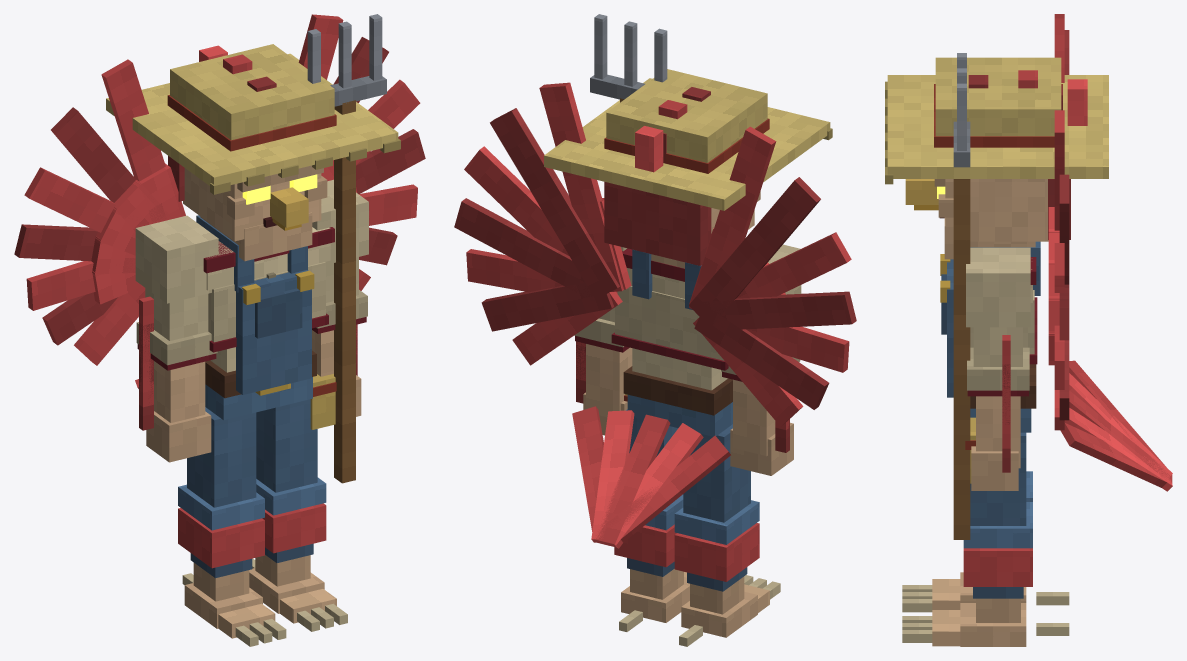
File: harpy_fermier_v2.glb
The picture shows the model from 3 angles, left to right: view 1: azimuth 30°, elevation 25°; view 2: azimuth 150°, elevation 25°; view 3: azimuth 270°, elevation 25°; orthographic projection. The views are drawn at different scales.
Parts seen in each view (by area): view 1: Torso, Head, ArmR, LegR, LegL, HandL, ArmL, Root; view 2: Torso, Head, LegR, LegL, ArmR, ArmL, HandL, Root; view 3: Head, Torso, ArmL, LegL, HandL, Root, LegR.
Part boxes in pixels (bbox=[...]): Torso: bbox=[14, 14, 425, 429]; Head: bbox=[106, 44, 400, 261]; ArmR: bbox=[135, 215, 218, 462]; LegR: bbox=[178, 407, 275, 638]; LegL: bbox=[249, 399, 336, 623]; HandL: bbox=[307, 14, 386, 483]; ArmL: bbox=[312, 179, 368, 416]; Root: bbox=[182, 558, 347, 646]; Torso: bbox=[454, 82, 856, 548]; Head: bbox=[544, 69, 832, 268]; LegR: bbox=[674, 424, 769, 637]; LegL: bbox=[614, 409, 689, 622]; ArmR: bbox=[721, 244, 801, 475]; ArmL: bbox=[574, 247, 632, 435]; HandL: bbox=[590, 14, 667, 102]; Root: bbox=[619, 575, 780, 646]; Head: bbox=[885, 57, 1108, 259]; Torso: bbox=[940, 14, 1172, 491]; ArmL: bbox=[966, 247, 1030, 490]; LegL: bbox=[932, 432, 1032, 646]; HandL: bbox=[953, 53, 970, 539]; Root: bbox=[902, 585, 1069, 642]; LegR: bbox=[932, 471, 1032, 609].
Bounding box in the file's own units: 1.46 × 1.96 × 0.8703.
38 materials, 38 textured.
